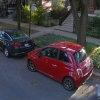Car: (4, 20, 91, 91)
